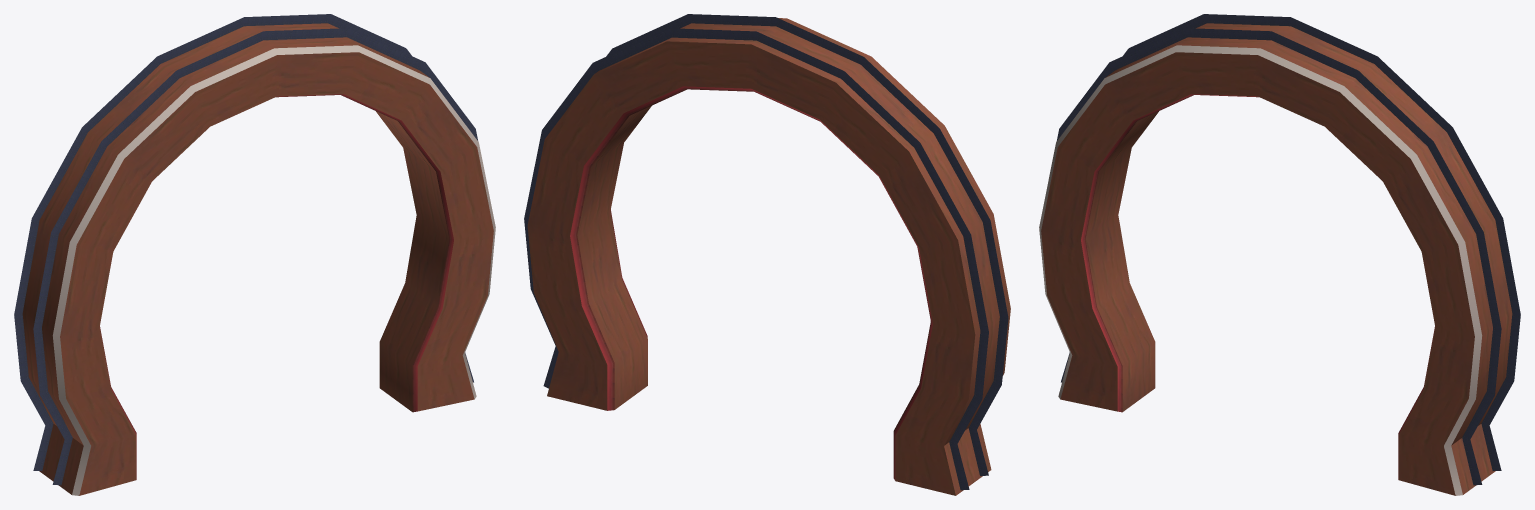
Rendered from door.glb.
3 renders of one model, left to right at view 1: azimuth 30°, elevation 25°; view 2: azimuth 150°, elevation 25°; view 3: azimuth 330°, elevation 25°, orthographic.
Parts seen in each view (by area): view 1: Door; view 2: Door; view 3: Door.
Boxes of the visible parts, <box> form: Door: <box>14,14,495,495</box>; Door: <box>524,14,1010,495</box>; Door: <box>1039,14,1520,495</box>.
Size of the model in its own units: 6.72 by 5.68 by 0.9588.
3 materials, 3 textured.
